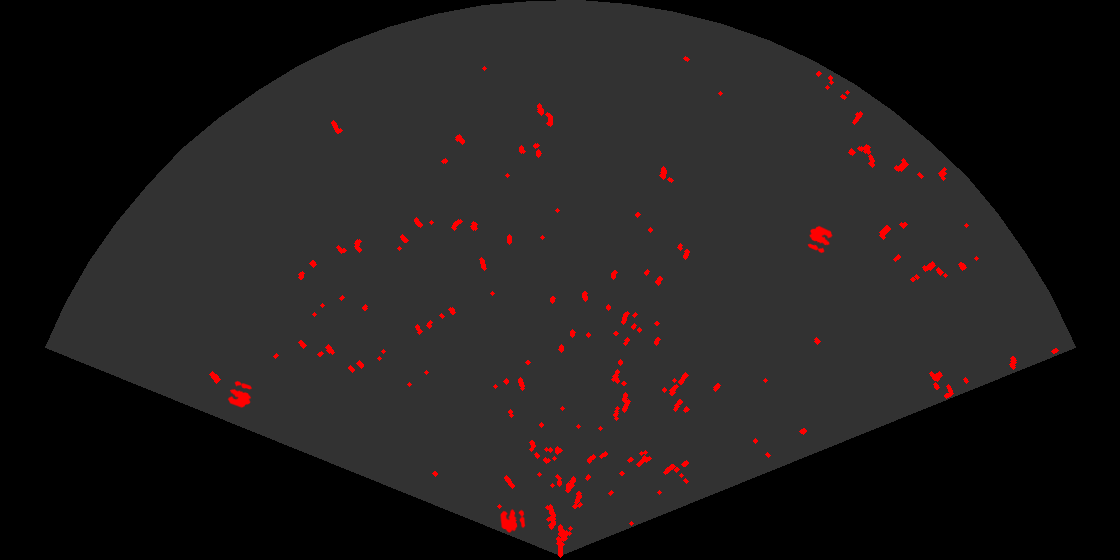ball: (806, 224, 834, 255), (226, 379, 254, 409), (499, 507, 527, 534)
